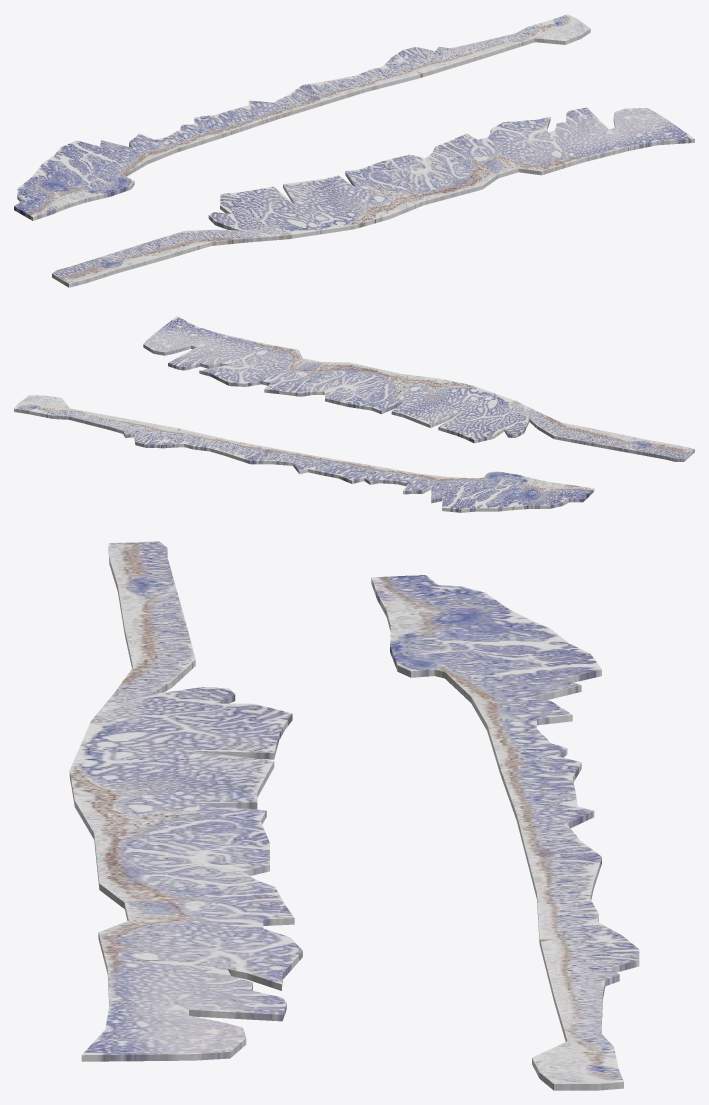
3 views of the same model, one above another, from view 1: azimuth 30°, elevation 25°; view 2: azimuth 150°, elevation 25°; view 3: azimuth 270°, elevation 25° (orthographic). The views are drawn at different scales.
Parts seen in each view (by area): view 1: 平面; view 2: 平面; view 3: 平面.
Boxes of the visible parts, <box> form: 平面: <box>14,14,694,287</box>; 平面: <box>14,316,694,512</box>; 平面: <box>69,541,639,1090</box>.
Bounding box in the file's own units: 24.82 × 0.14 × 11.01.
1 material, 1 textured.
